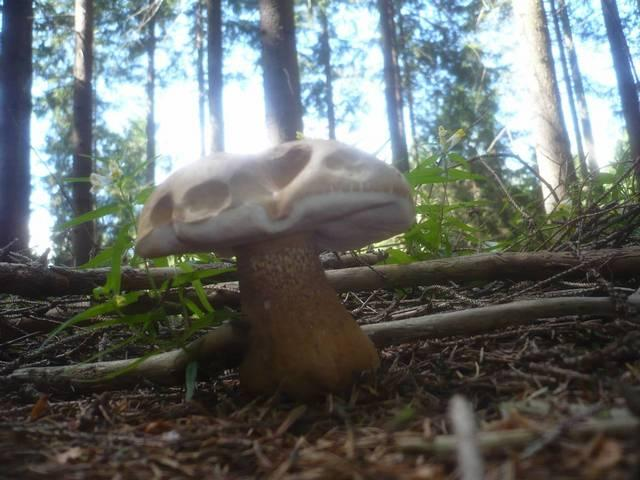Non-edible Mushroom: (132, 136, 417, 402)
